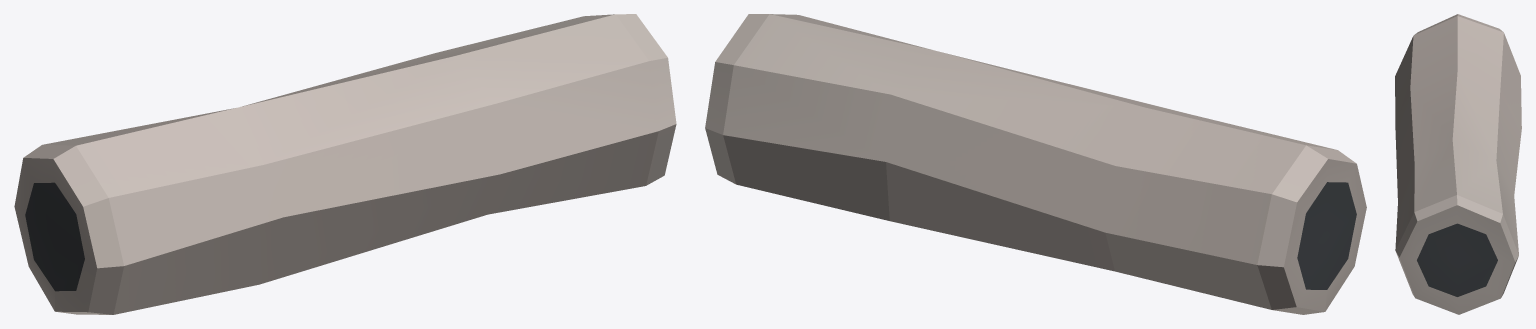
Rendered from SM_Item_Paint_Roller_01_Brush.obj.
The picture shows the model from 3 angles, left to right: view 1: azimuth 30°, elevation 25°; view 2: azimuth 150°, elevation 25°; view 3: azimuth 270°, elevation 25°; orthographic projection. The views are drawn at different scales.
Visible parts, largest first — view 1: SM_Item_Paint_Roller_01_Brush_0; view 2: SM_Item_Paint_Roller_01_Brush_0; view 3: SM_Item_Paint_Roller_01_Brush_0.
Part boxes in pixels (box(x1,y1,x2,y2)): SM_Item_Paint_Roller_01_Brush_0: box(14, 14, 676, 314); SM_Item_Paint_Roller_01_Brush_0: box(705, 14, 1366, 314); SM_Item_Paint_Roller_01_Brush_0: box(1395, 14, 1521, 314).
Bounding box in the file's own units: 0.3626 × 0.1022 × 0.1001.
1 material, 1 textured.
